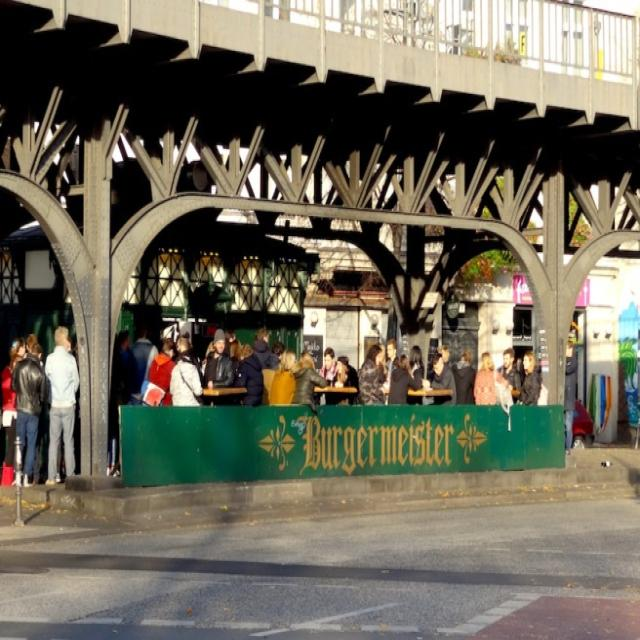body: (41, 322, 81, 492), (10, 342, 49, 491), (104, 324, 140, 482), (11, 335, 39, 490), (126, 322, 161, 405), (0, 347, 20, 488), (140, 335, 178, 408), (292, 347, 332, 416), (64, 335, 82, 479), (472, 351, 512, 408), (233, 342, 266, 408), (357, 344, 389, 406), (563, 338, 579, 458), (388, 353, 423, 405), (202, 328, 230, 390), (515, 348, 544, 407), (494, 346, 523, 405), (426, 353, 458, 406), (509, 354, 530, 434), (269, 348, 298, 405), (450, 348, 477, 405), (379, 336, 400, 406), (332, 356, 361, 406), (202, 323, 238, 362), (316, 346, 349, 388), (405, 344, 425, 406), (252, 326, 280, 370), (382, 338, 400, 405), (437, 338, 455, 377), (270, 339, 288, 365), (25, 332, 39, 354), (175, 337, 190, 354), (66, 336, 74, 354)
